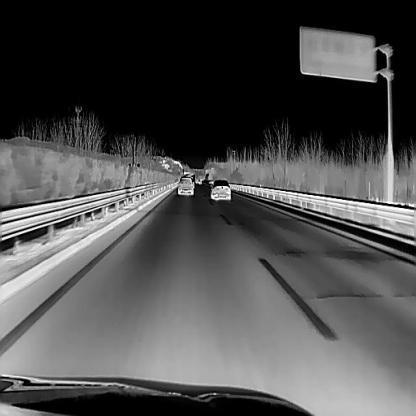car: (210, 178, 230, 199), (177, 176, 193, 194)
